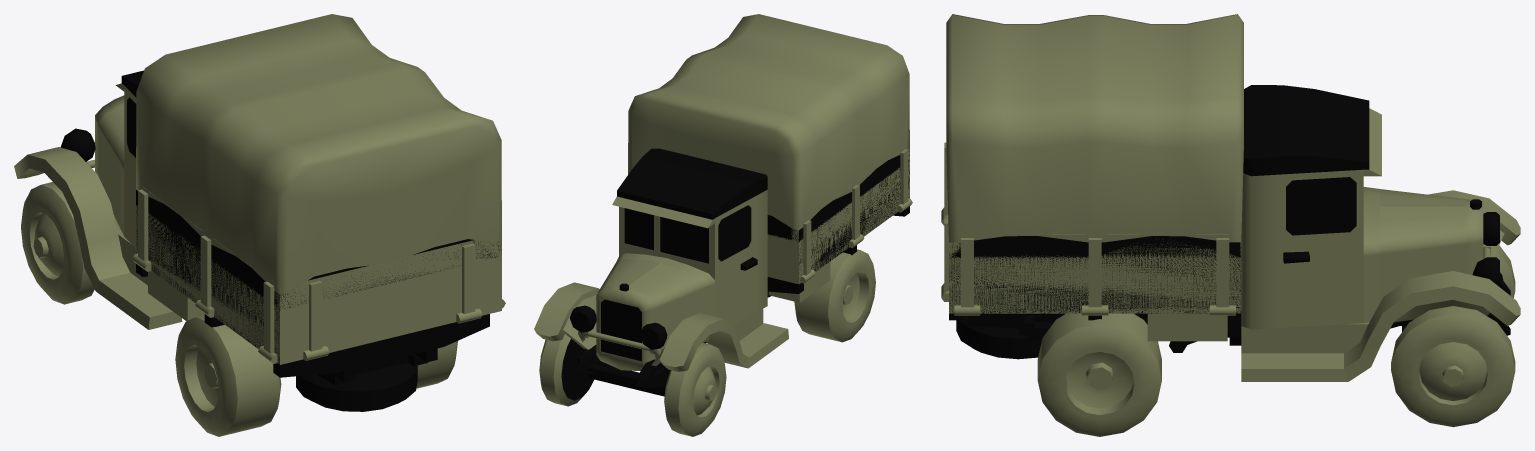
The model's file is Truck_R_ZIS5.fbx.
3 renders of one model, left to right at view 1: azimuth 30°, elevation 25°; view 2: azimuth 150°, elevation 25°; view 3: azimuth 270°, elevation 25°, orthographic. The views are drawn at different scales.
Visible parts, largest first — view 1: back_canvas, back_open, hull, tire_back, tire_front_l, wheel_front_l, wheel_back; view 2: back_canvas, hull, back_open, tire_back, tire_front_l, tire_front_r, wheel_back, wheel_front_l, wheel_front_r; view 3: back_canvas, hull, back_open, tire_back, tire_front_r, wheel_front_r, wheel_back.
Part boxes in pixels (left/top/right/bottom): back_canvas: left=136, top=14, right=501, bottom=364; back_open: left=132, top=186, right=505, bottom=364; hull: left=14, top=70, right=489, bottom=411; tire_back: left=175, top=315, right=457, bottom=436; tire_front_l: left=21, top=182, right=94, bottom=304; wheel_front_l: left=27, top=208, right=66, bottom=283; wheel_back: left=182, top=341, right=220, bottom=415; back_canvas: left=628, top=14, right=909, bottom=283; hull: left=534, top=148, right=909, bottom=396; back_open: left=767, top=149, right=912, bottom=284; tire_back: left=794, top=249, right=875, bottom=342; tire_front_l: left=664, top=342, right=726, bottom=436; tire_front_r: left=539, top=334, right=587, bottom=406; wheel_back: left=767, top=268, right=870, bottom=326; wheel_front_l: left=691, top=363, right=721, bottom=420; wheel_front_r: left=561, top=339, right=594, bottom=400; back_canvas: left=946, top=14, right=1243, bottom=313; hull: left=949, top=85, right=1520, bottom=381; back_open: left=941, top=142, right=1241, bottom=315; tire_back: left=1037, top=313, right=1161, bottom=436; tire_front_r: left=1391, top=306, right=1515, bottom=427; wheel_front_r: left=1414, top=338, right=1492, bottom=409; wheel_back: left=1060, top=348, right=1138, bottom=418.
Size of the model in its own units: 302 by 636 by 395.
